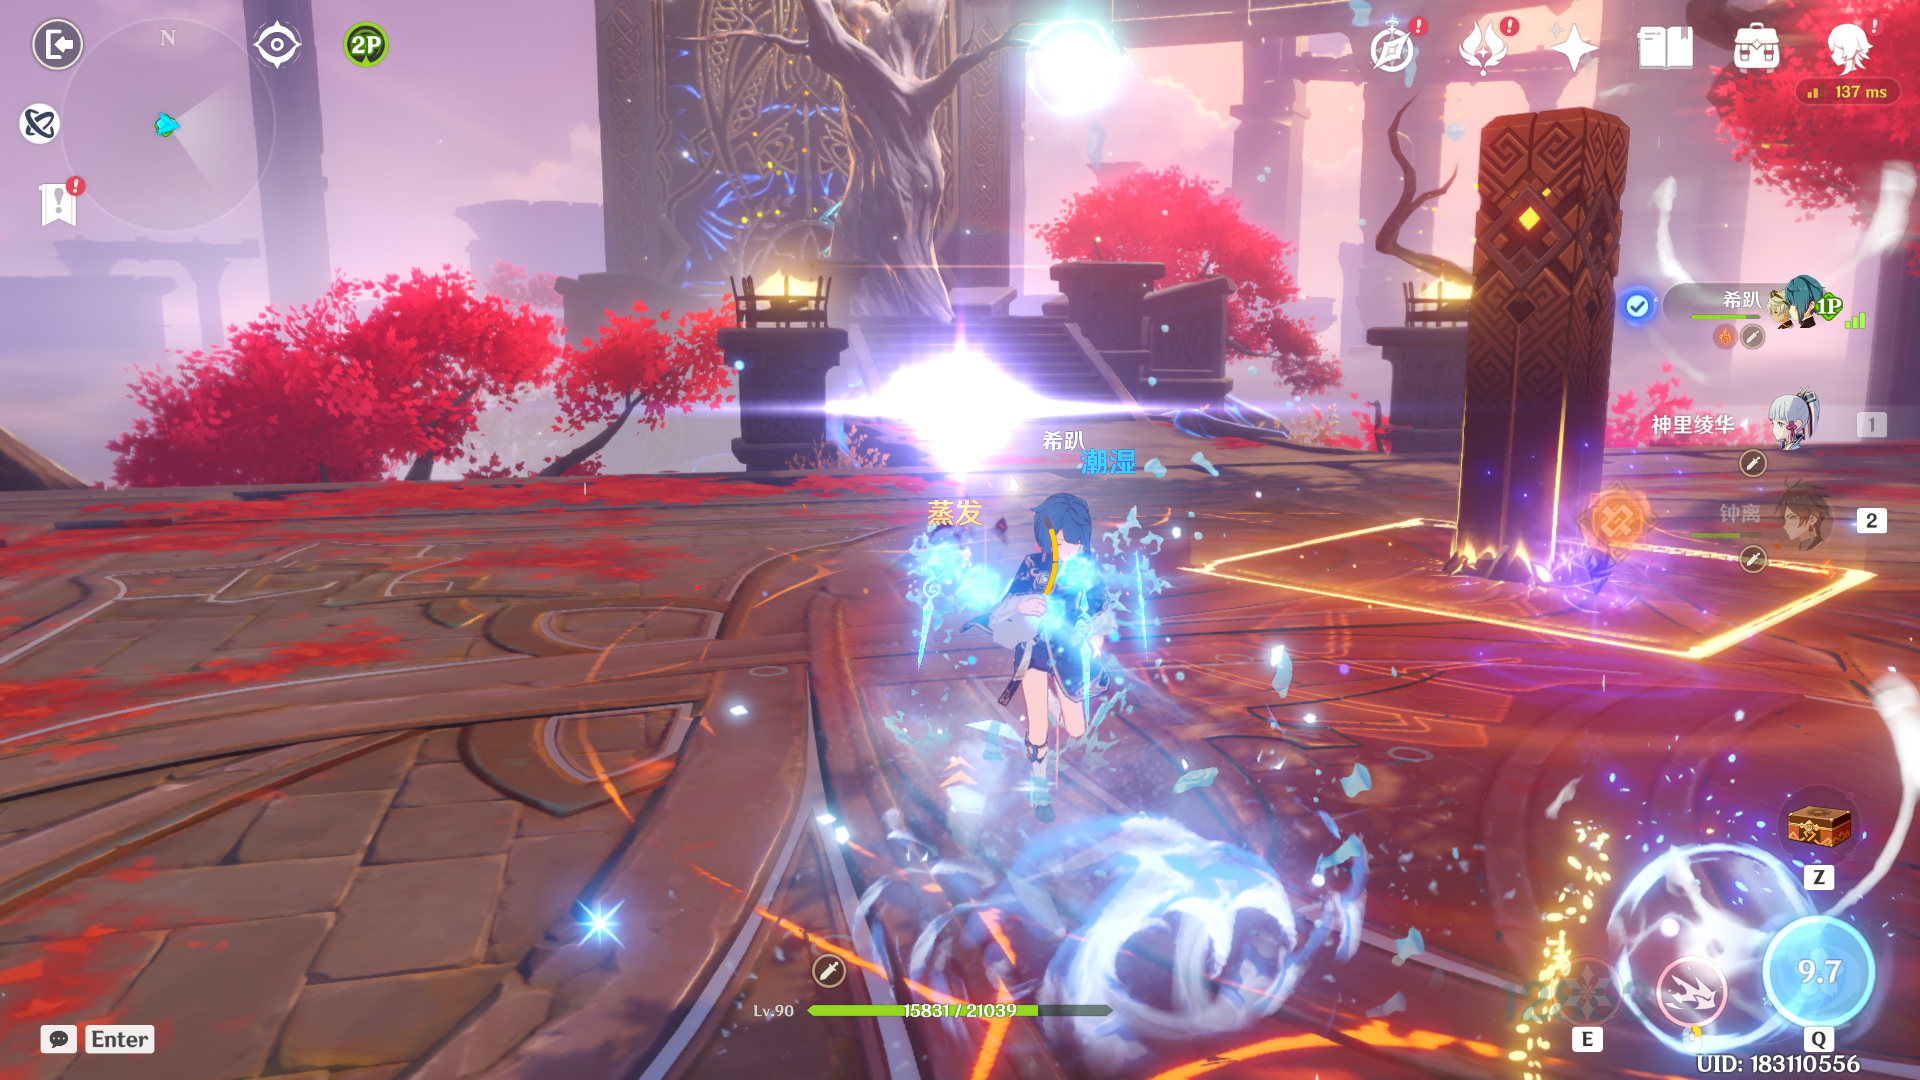character: (971, 469, 1164, 806)
